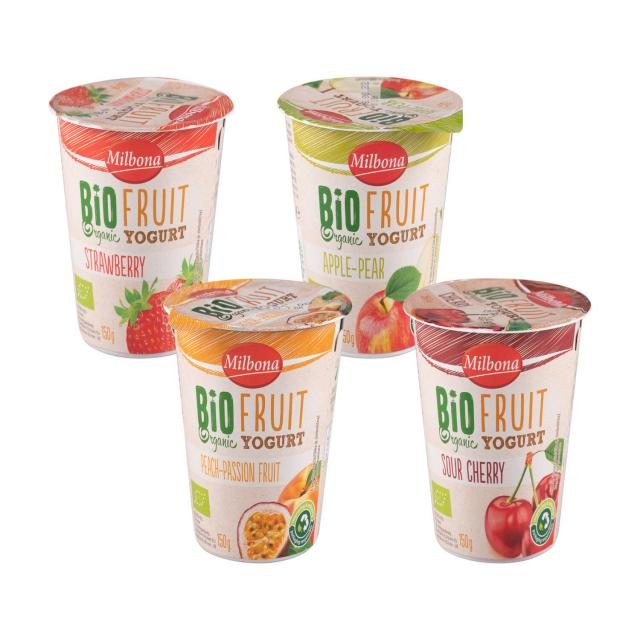yogurt: (402, 279, 594, 563), (162, 279, 352, 561), (279, 74, 462, 359), (50, 77, 232, 356)
